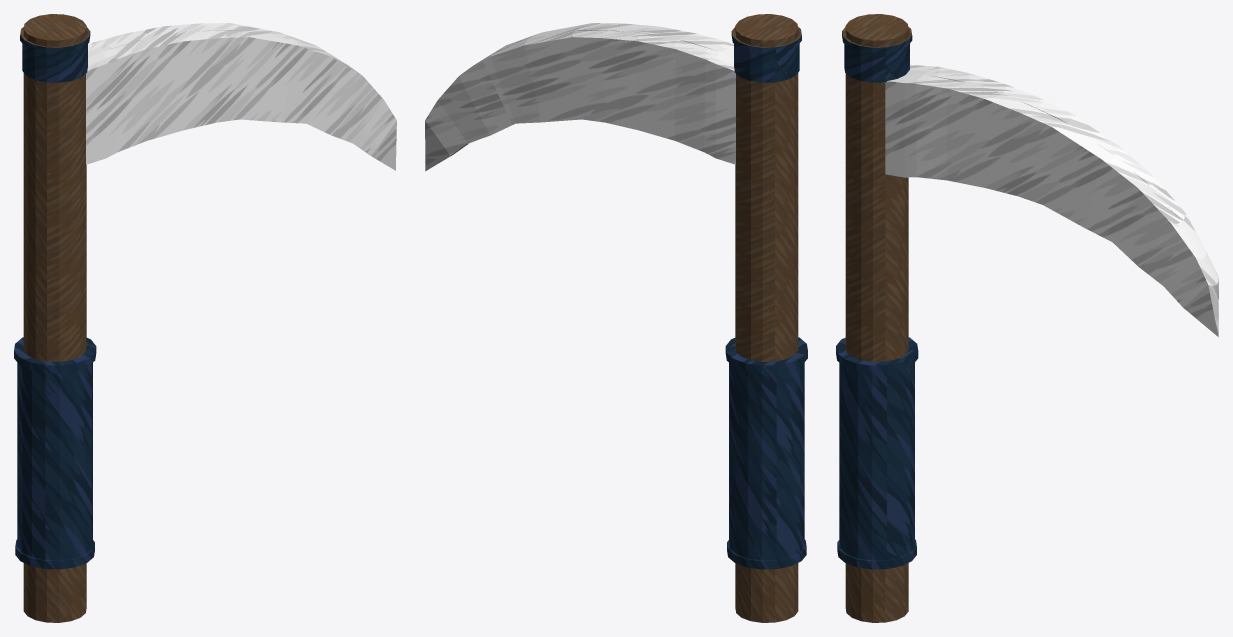
File: guadaña.fbx
3 renders of one model, left to right at view 1: azimuth 30°, elevation 25°; view 2: azimuth 150°, elevation 25°; view 3: azimuth 330°, elevation 25°, orthographic.
Visible parts, largest first — view 1: guadaña; view 2: guadaña; view 3: guadaña.
Part boxes in pixels (left/top/right/bottom): guadaña: left=14, top=14, right=396, bottom=622; guadaña: left=425, top=14, right=807, bottom=622; guadaña: left=836, top=14, right=1218, bottom=622.
Size of the model in its own units: 205 by 303 by 39.15.
